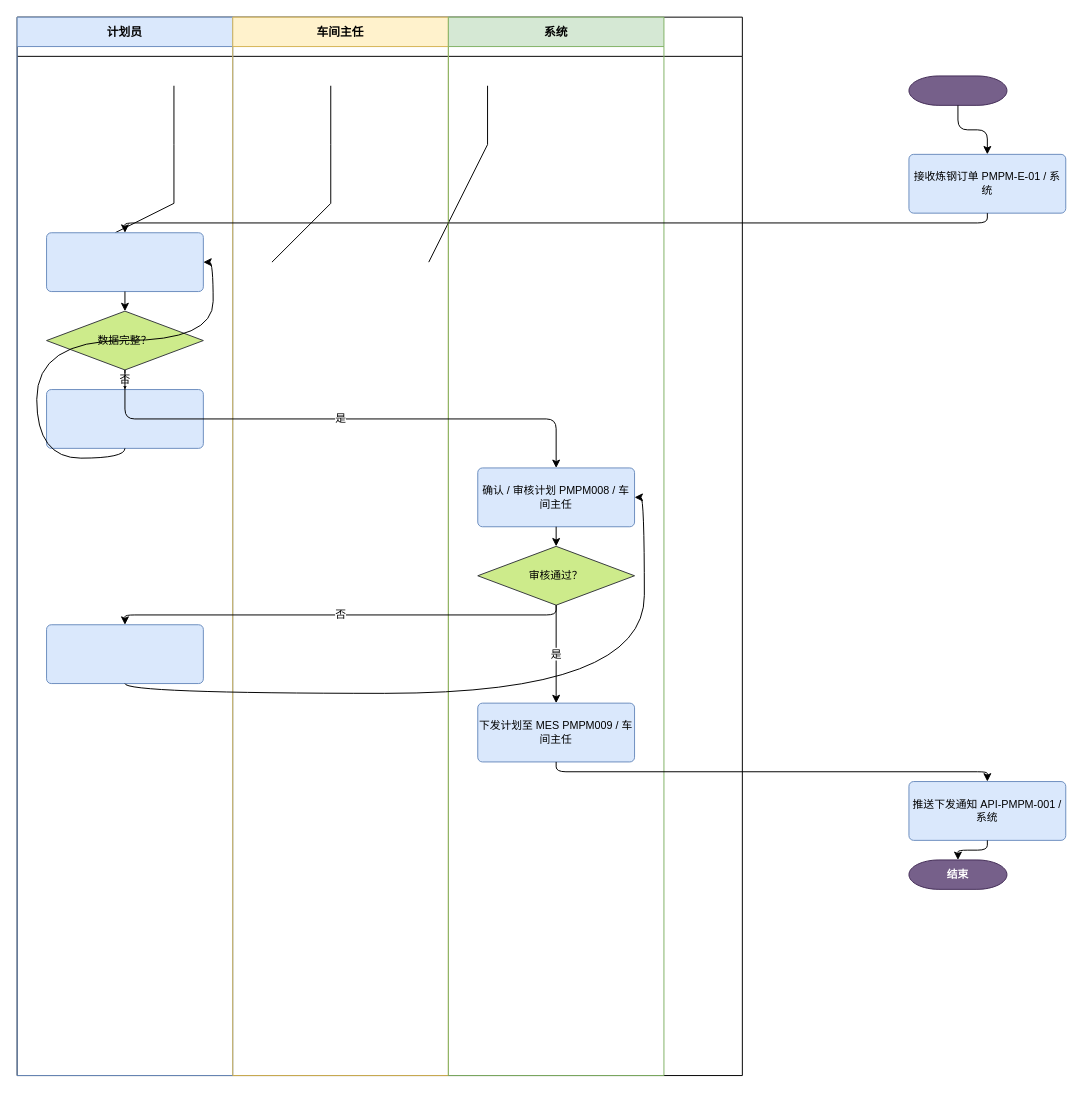
This 1083x1093 diagram has some shape labels left out. Here are the shapes that lost their labels. From the top down, the centre of each, then its label:
At pixel 957 90: "开始".
At pixel 124 262: "编制炼钢计划 PMPM007 / 计划员".
At pixel 124 418: "修正并保存 PMPM007 / 计划员".
At pixel 124 654: "修改并重提 PMPM007 / 计划员".
